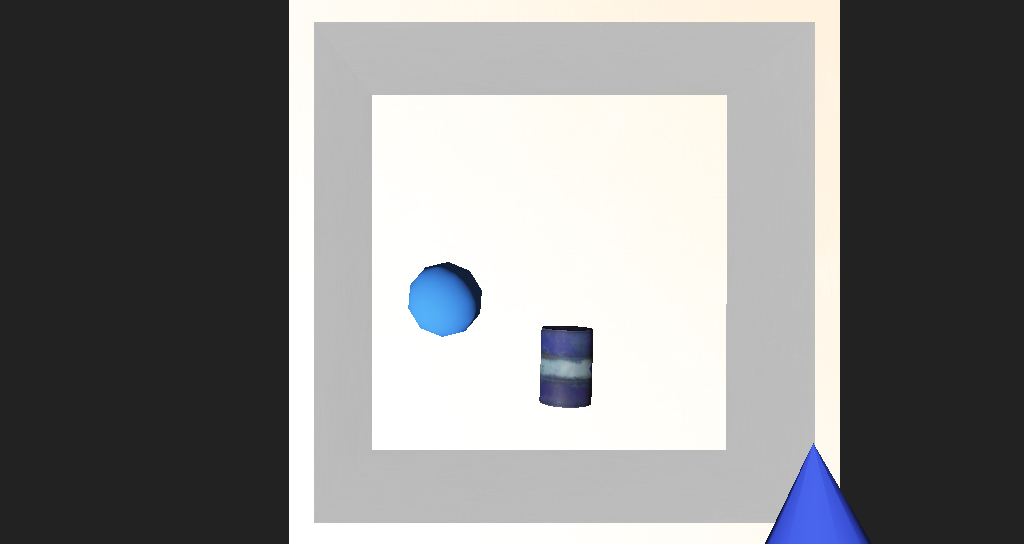cone: (502, 301, 549, 348)
cylinder: (650, 356, 765, 446)
sphere: (387, 265, 448, 308)
